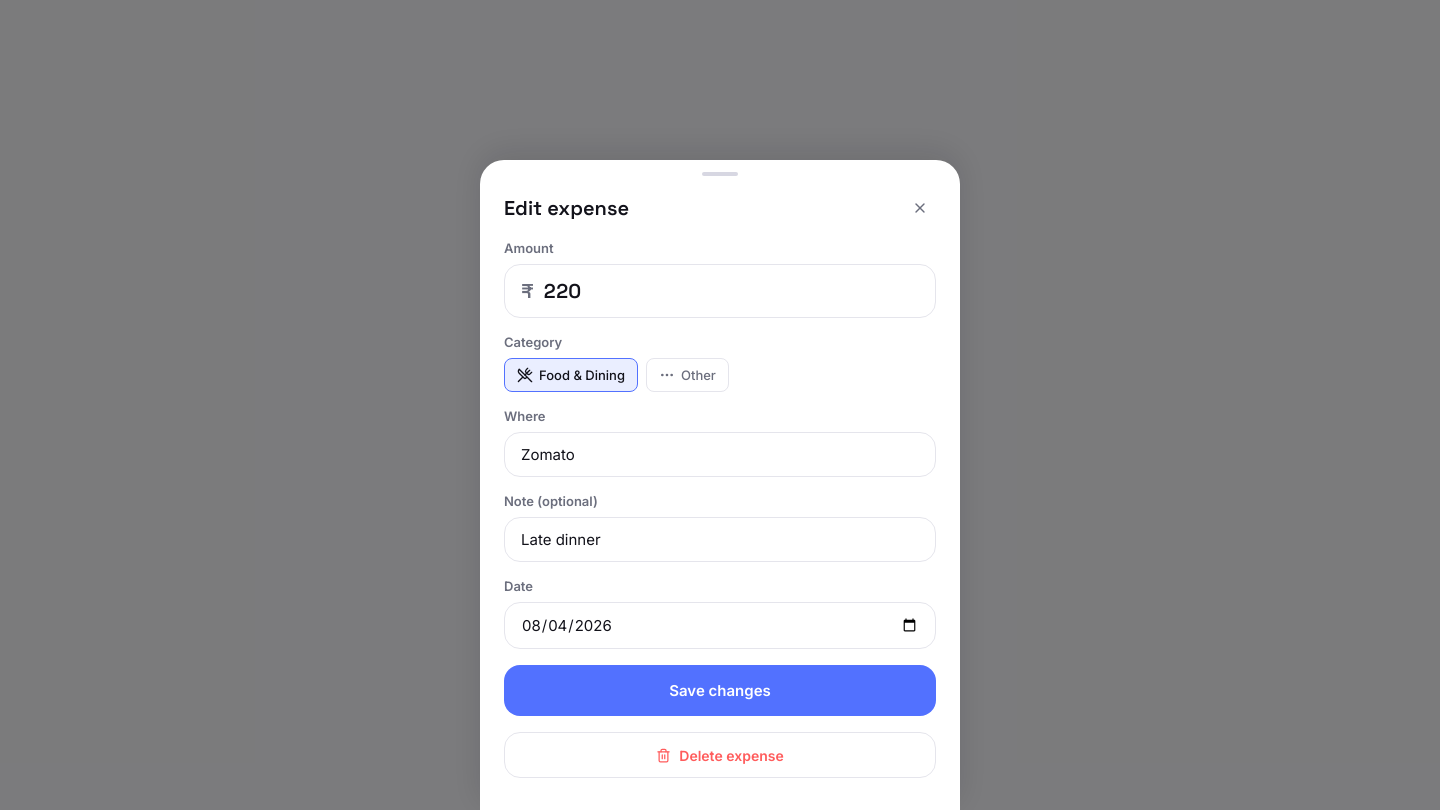
Scenario: AddExpenseSheet — editing › backs out of a delete without touching the record
What coordinates should you click on to do the following:
click the button "Delete expense"
I would click on:
 (720, 755)
Its box is x1=504 y1=732 x2=936 y2=778.
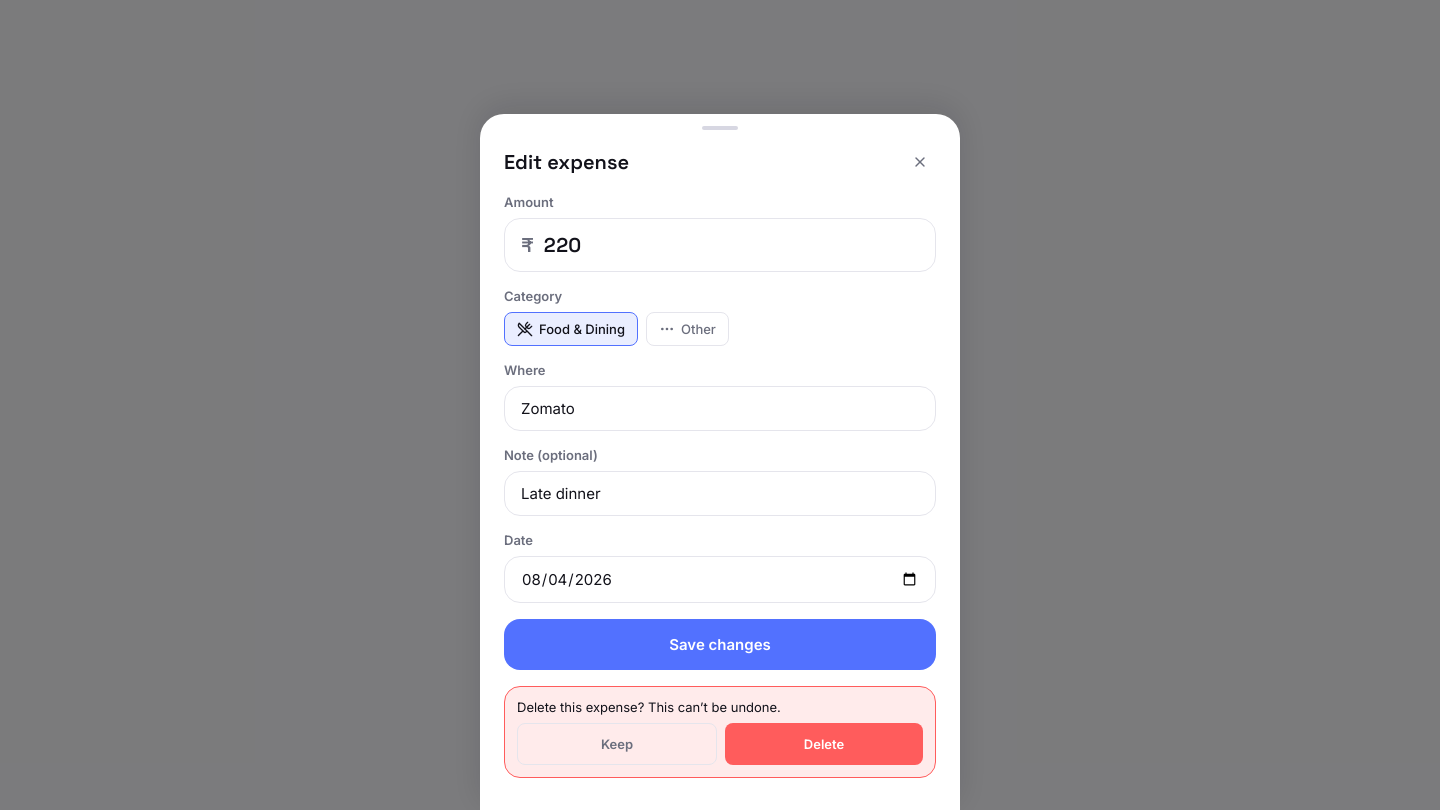
What coordinates should you click on to do the following:
click the button "Keep"
I would click on:
 (617, 744)
Its box is x1=517 y1=723 x2=717 y2=765.
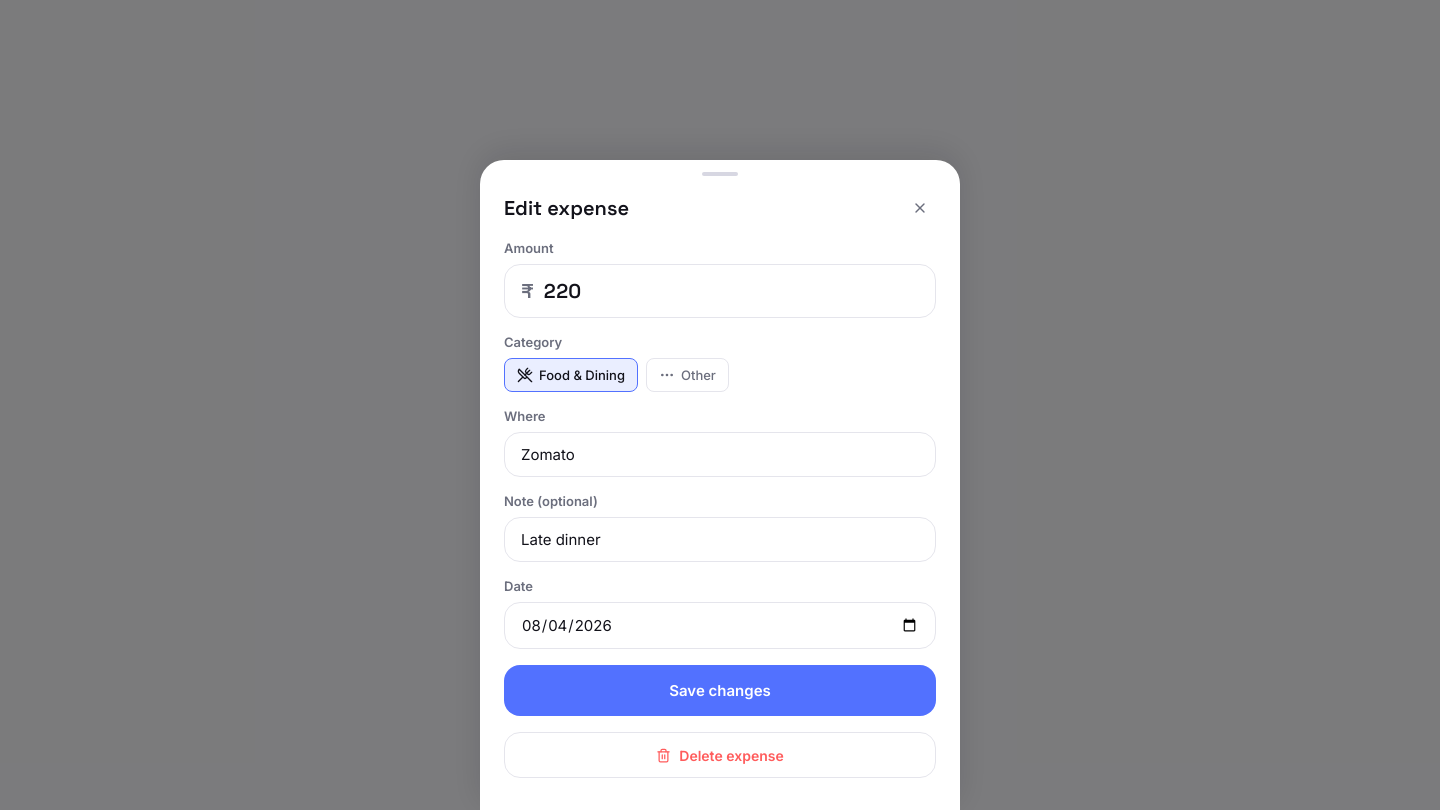
Expected: the button "Delete expense" is shown, x1=504 y1=732 x2=936 y2=778
